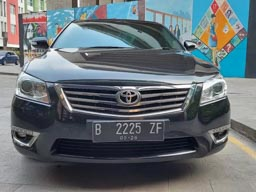plat: (93, 120, 164, 135)
